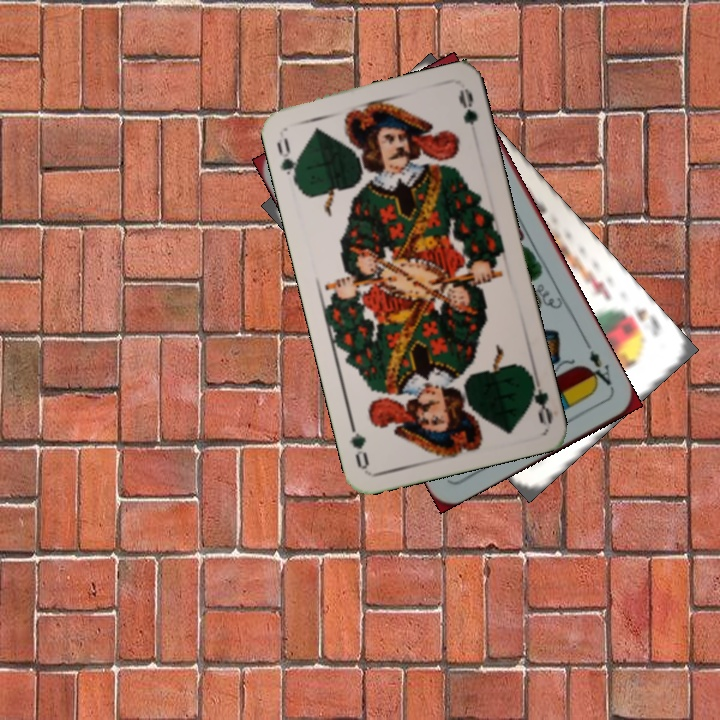EA: (581, 346, 616, 392)
GO: (524, 366, 556, 426), (272, 133, 302, 188)
SK: (631, 304, 663, 341)
